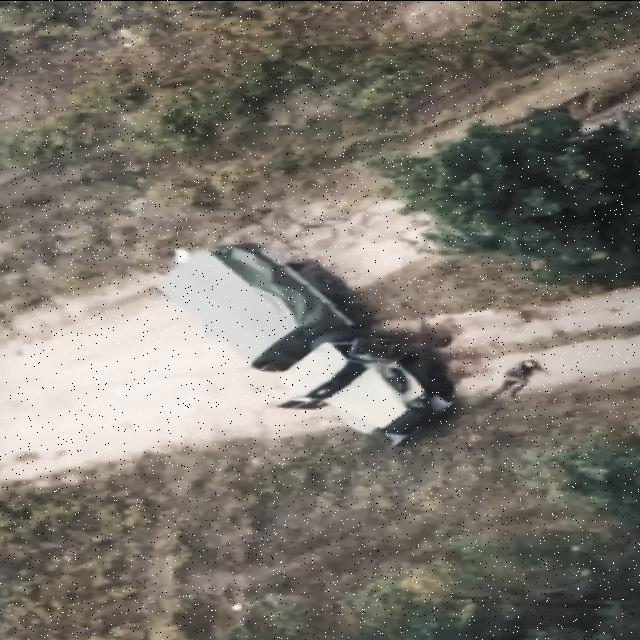TRUCK: (131, 235, 471, 454)
